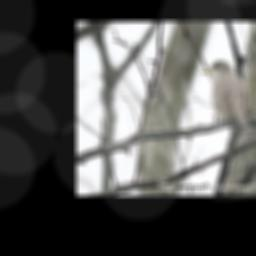Cuckoo: (201, 59, 250, 130)
